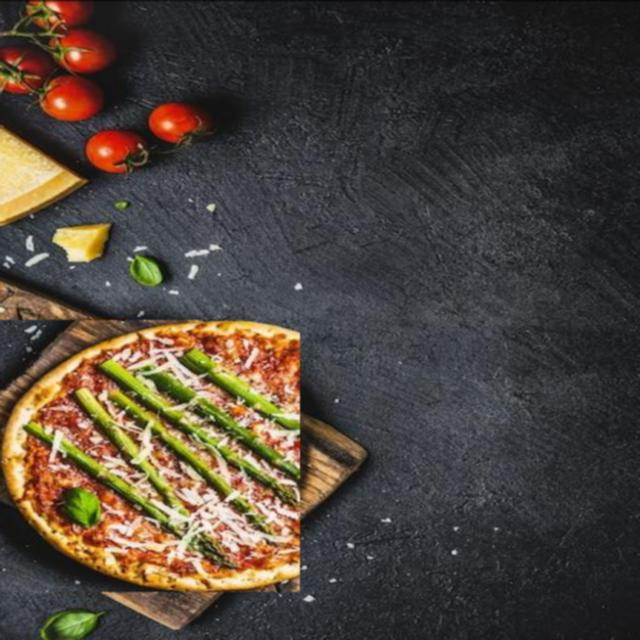basil: (40, 608, 106, 640), (199, 382, 238, 423), (129, 255, 165, 285)
pizza: (0, 319, 300, 591)
